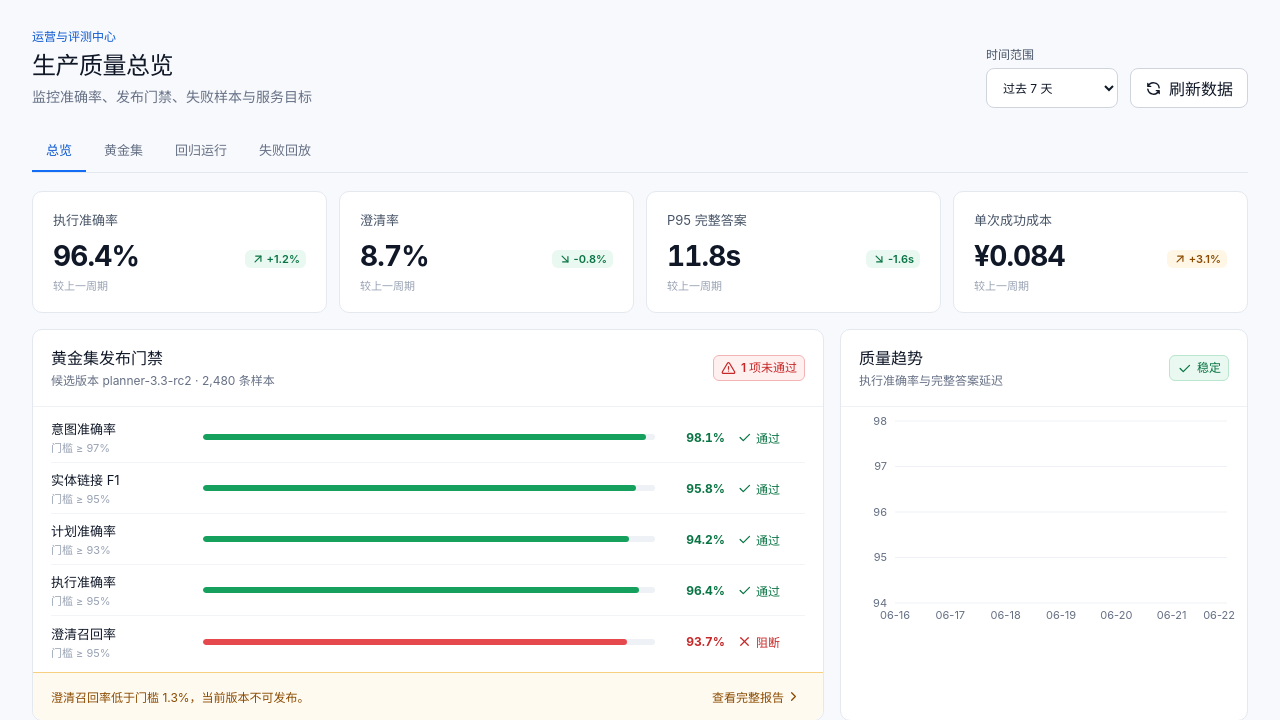
Scenario: OperationsCenter UI › filters replay runs and opens a replay detail drawer
Step 1. Click the tab "失败回放" → (285, 150), box [245,128,325,172]
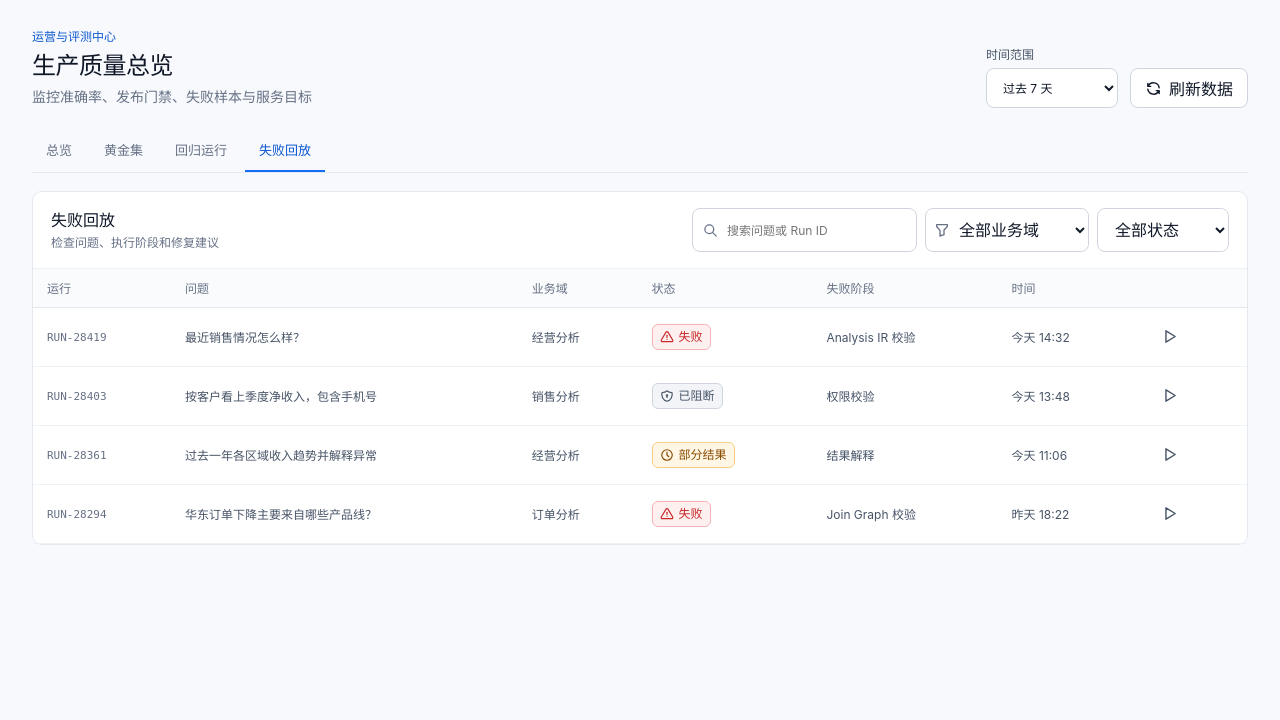
Step 2. Type "RUN-28403" into the field with placeholder "搜索问题或 Run ID" → (816, 230), box [725,222,906,238]
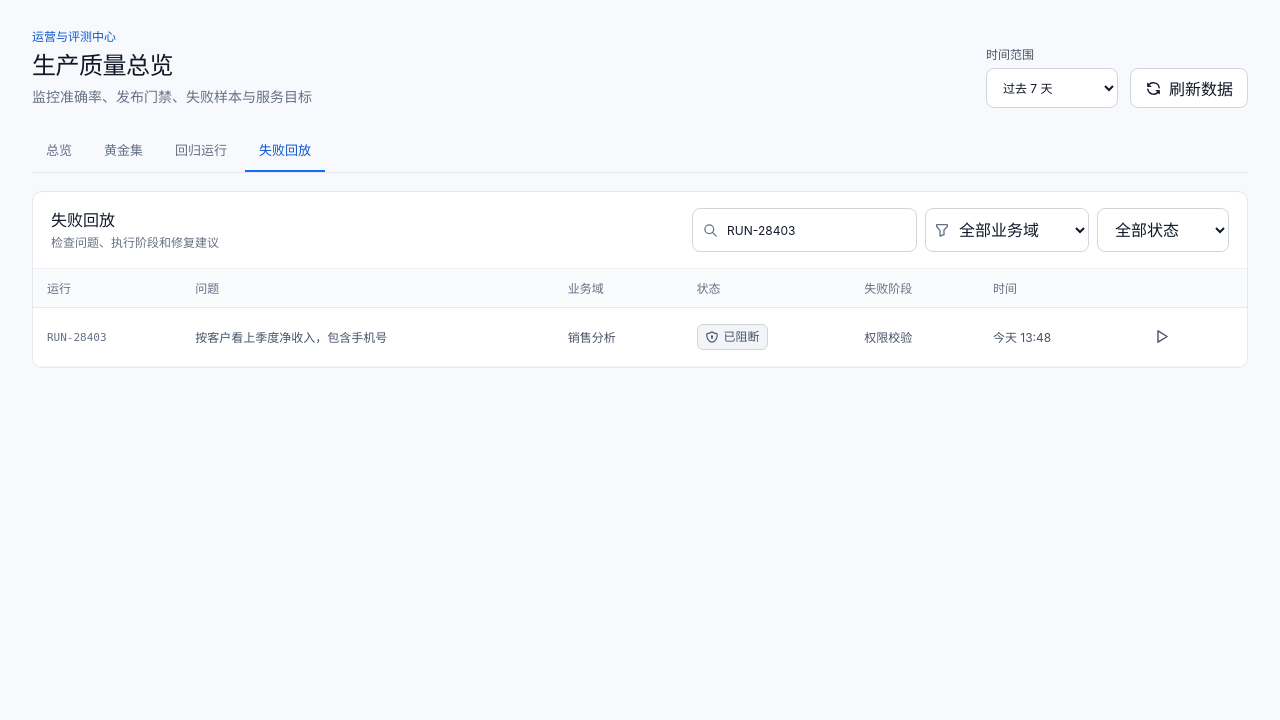
Now the text "RUN-28403" is shown, box [47,331,107,344]
Now the text "RUN-28419" is gone
Step 3. Click the button named "RUN-28403" → (1161, 336), box [1139,314,1183,358]
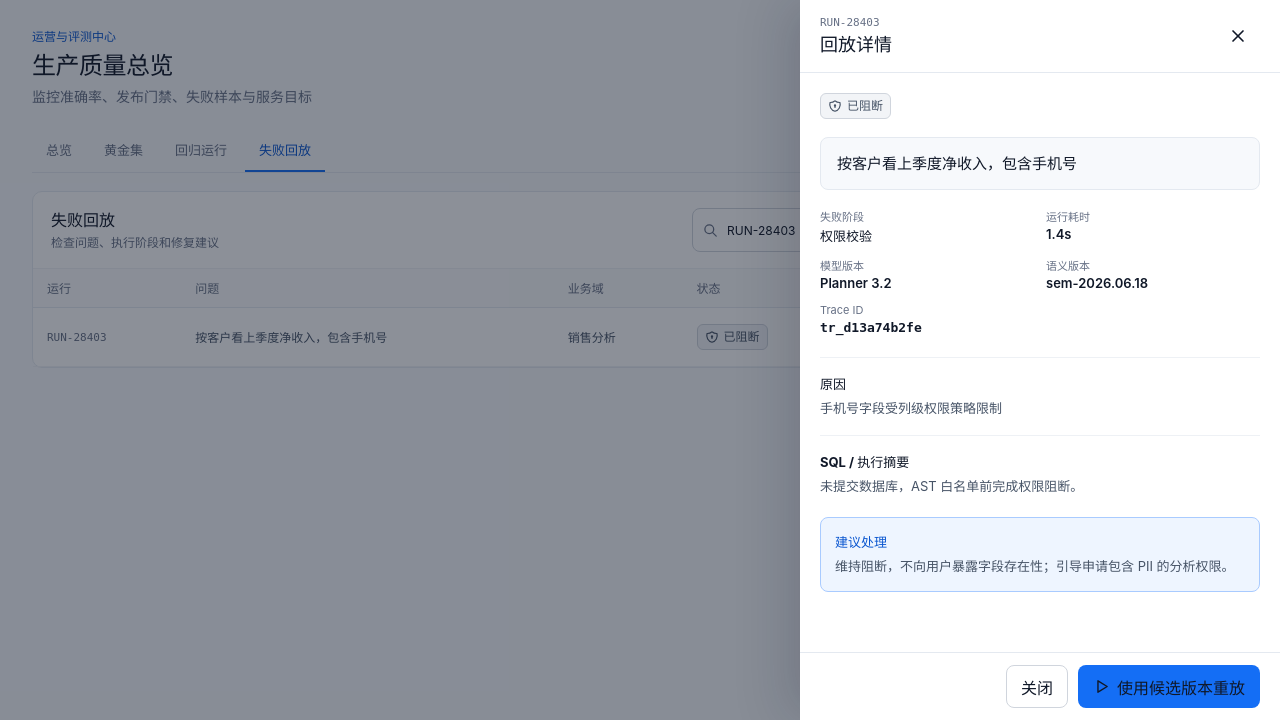
Now the text "失败阶段" is shown, box [820,210,864,224]
Now the text "模型版本" is shown, box [820,259,864,273]
Now the button "使用候选版本重放" is shown, box [1078,665,1260,708]
Step 4. Click the button "关闭" → (1037, 686), box [1006,665,1068,708]
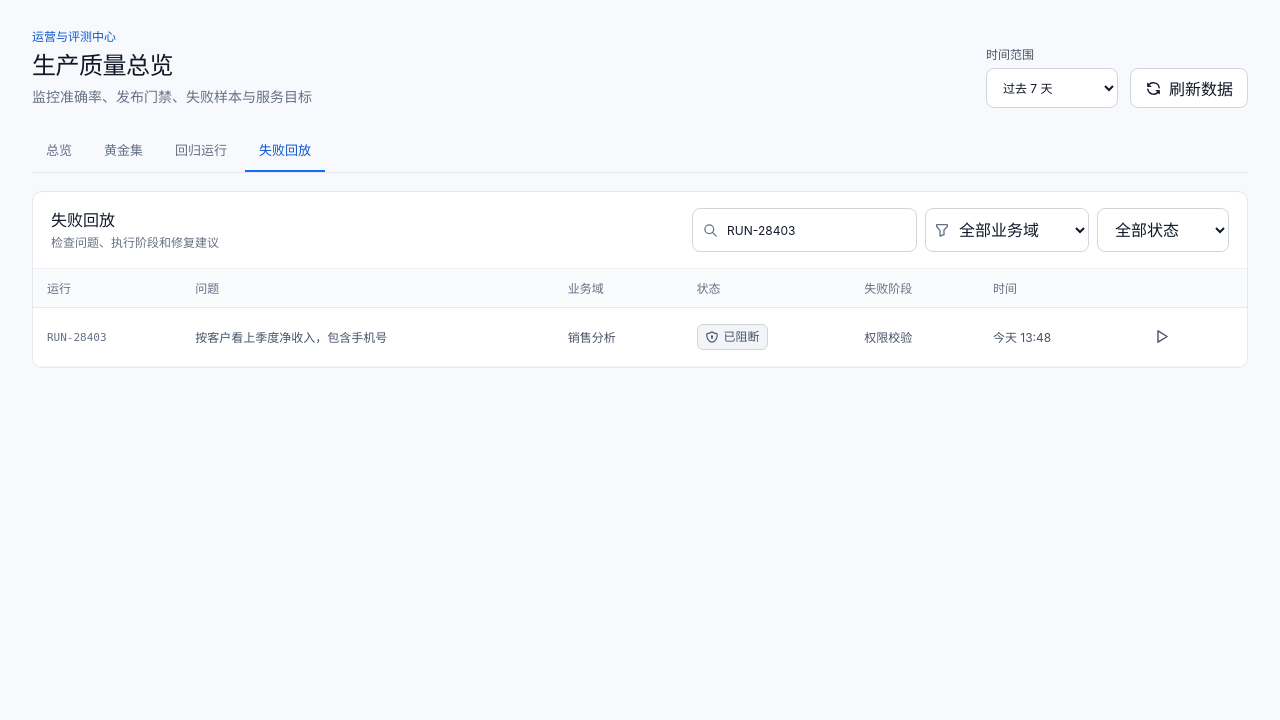
Now the heading "回放详情" is gone
